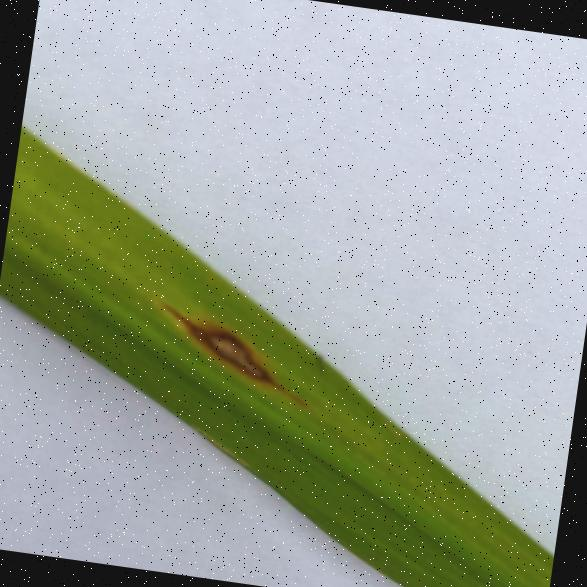Leaf_smut: (135, 243, 337, 428)
